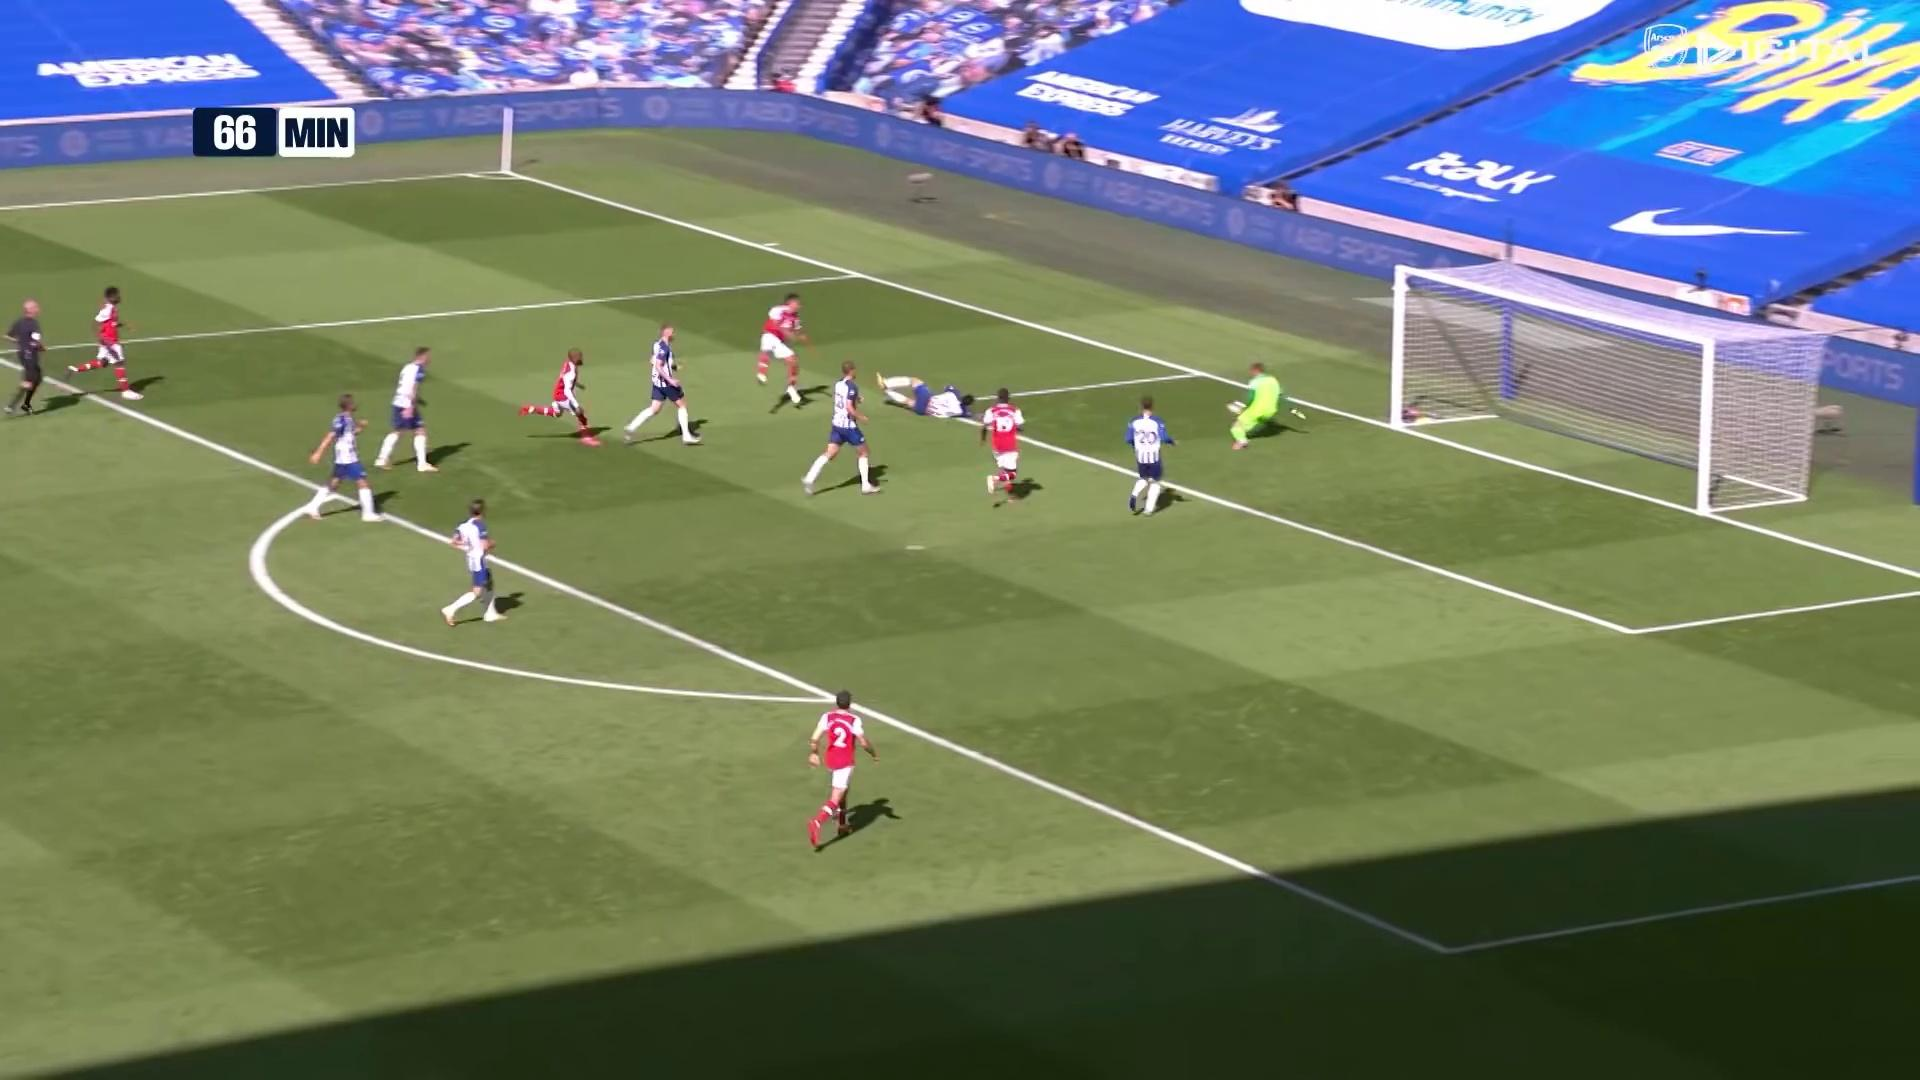goalkeeper: (1227, 360, 1307, 452)
player: (803, 688, 881, 856), (800, 360, 886, 499), (308, 391, 389, 525), (621, 322, 706, 448), (376, 342, 447, 475), (70, 284, 146, 403), (445, 500, 512, 631), (518, 345, 603, 448), (751, 291, 810, 406), (872, 367, 987, 425), (1125, 393, 1176, 519), (984, 386, 1037, 507)
referee: (7, 295, 54, 423)
